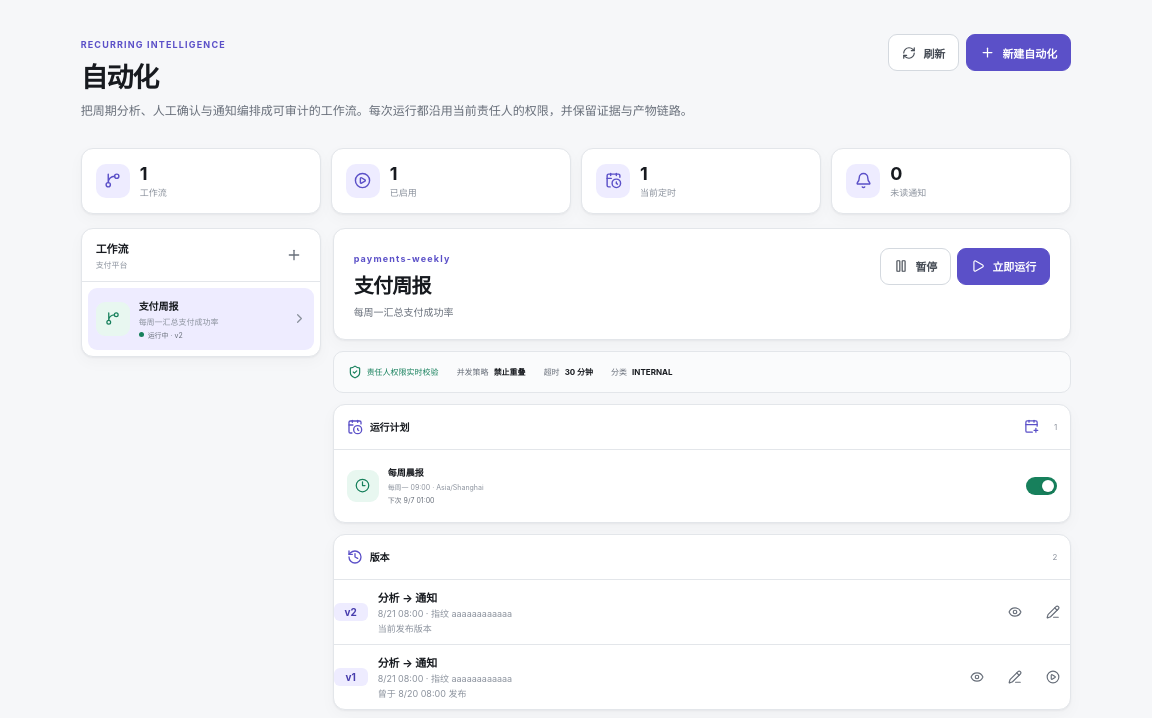
Test: AutomationView interactions › publishes an older version from the versions card
The image size is (1152, 718).
Expected: the text "每周晨报" is shown, x1=388 y1=467 x2=424 y2=478
Click the button named "发布版本 v1" at coordinates (1053, 677), box x1=1036 y1=660 x2=1070 y2=694
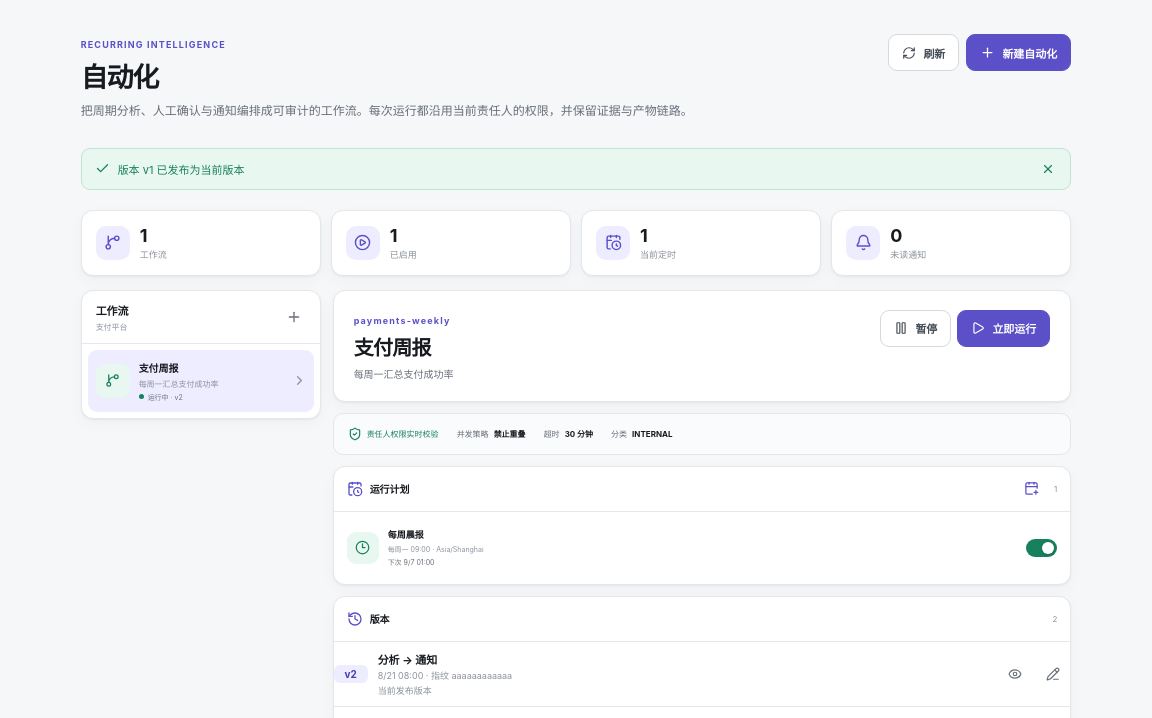
Expected: the text "版本 v1 已发布为当前版本" is shown, x1=81 y1=148 x2=1071 y2=190
